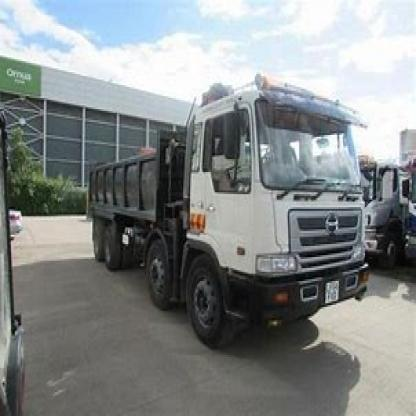dump_truck: (84, 70, 373, 350)
